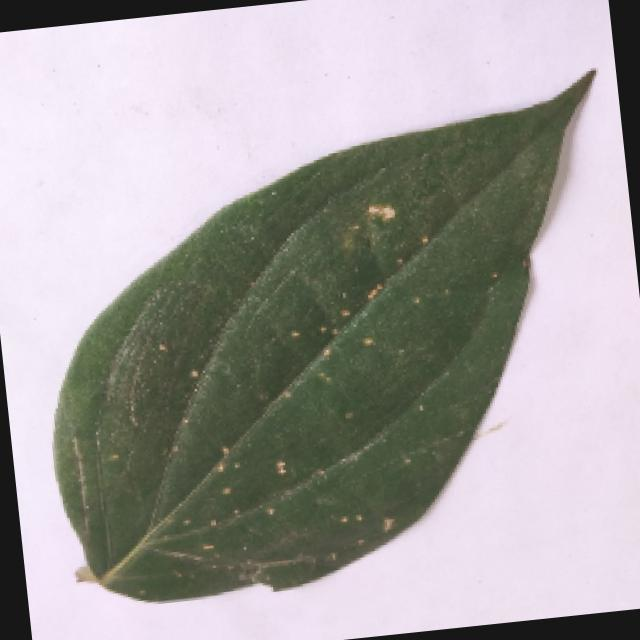pollu-disease: (21, 68, 640, 615)
